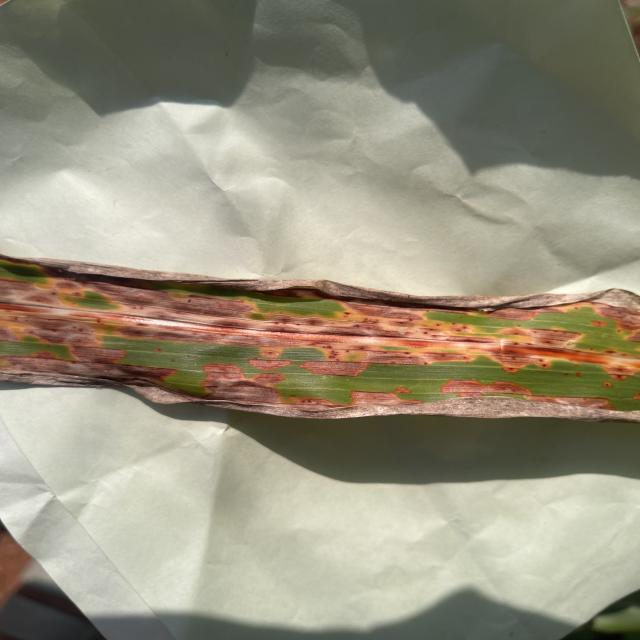millet_rust: (0, 255, 640, 422)
